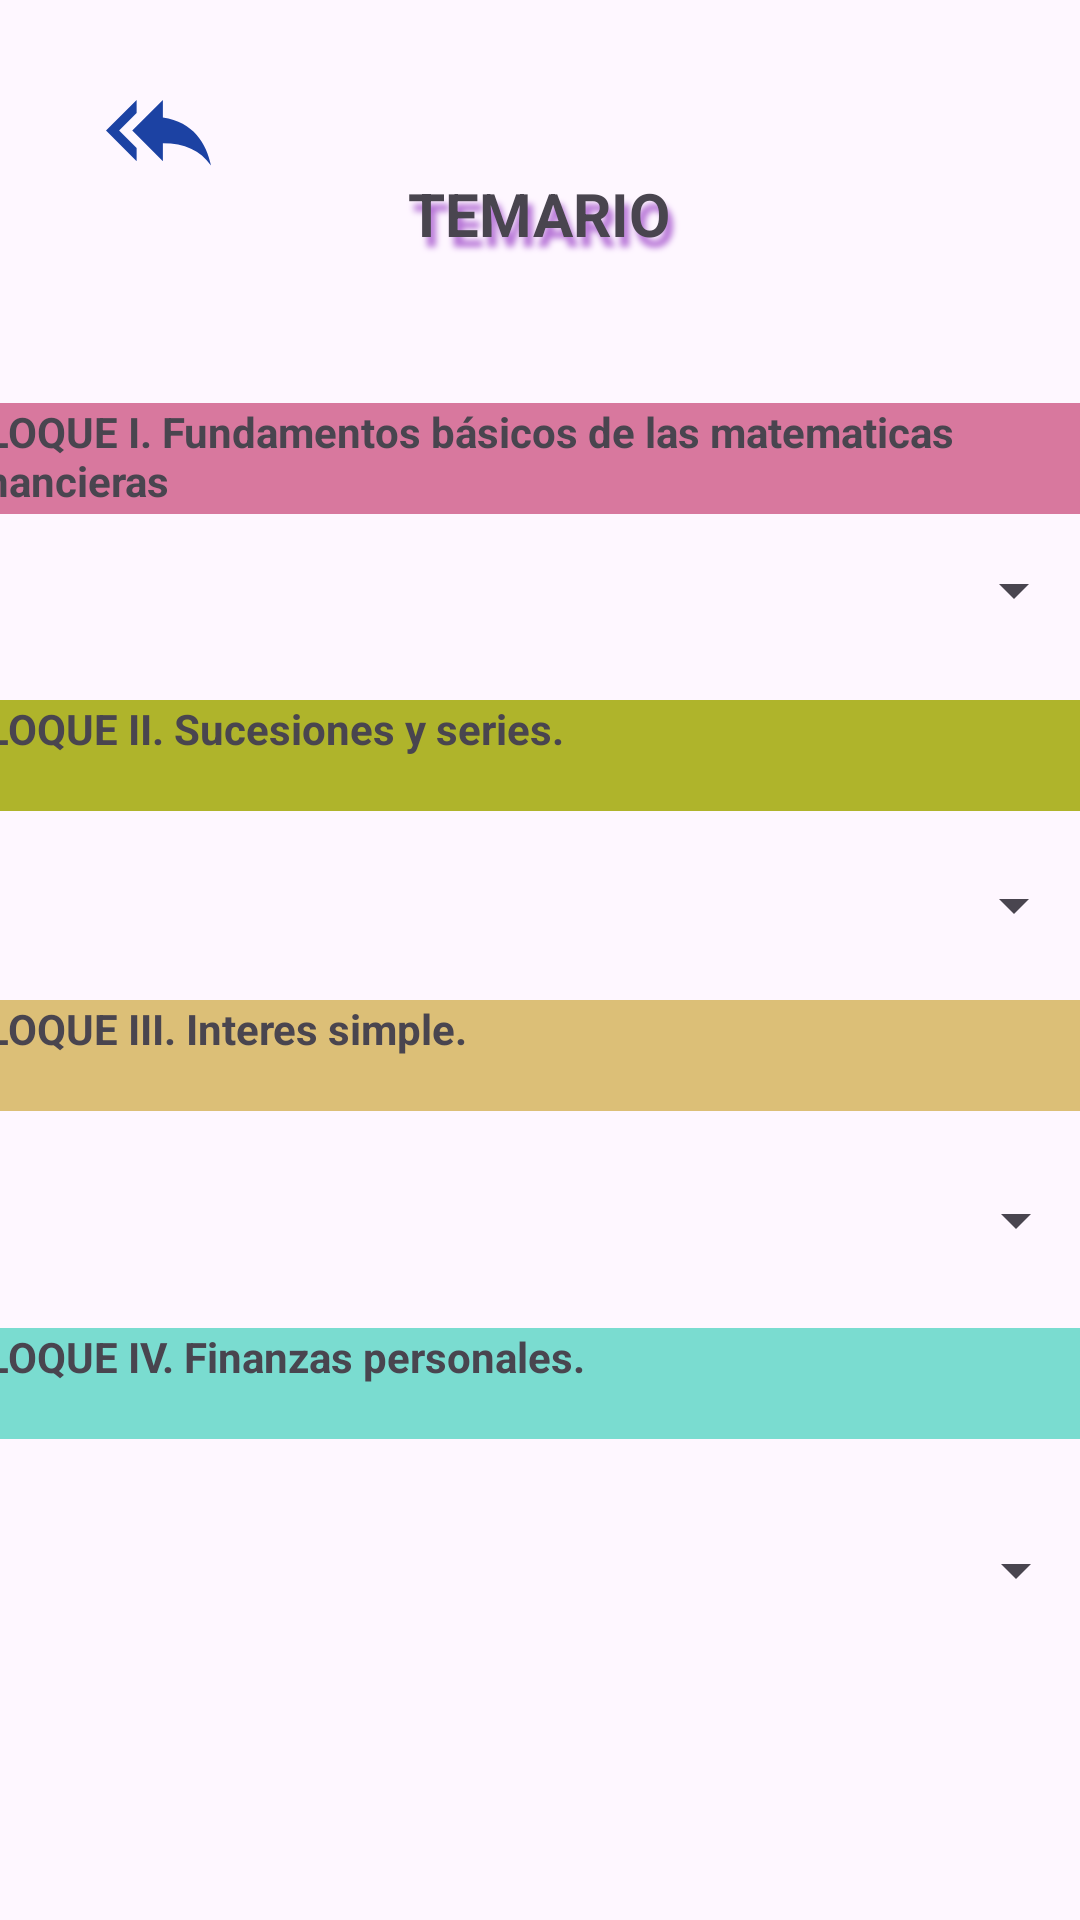

Point at icon controls on the screen. Image size 1080x1920, points as point (x, y).
backimage: point (158, 132)
